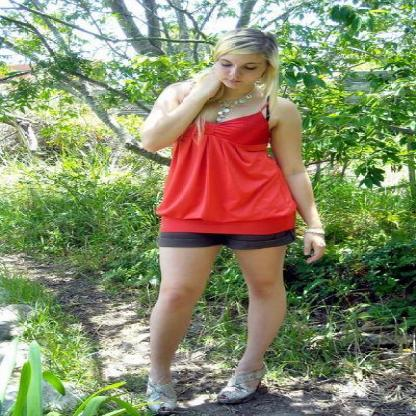dress: (155, 96, 301, 234)
shoe: (137, 353, 281, 407)
shorts: (169, 228, 302, 249)
